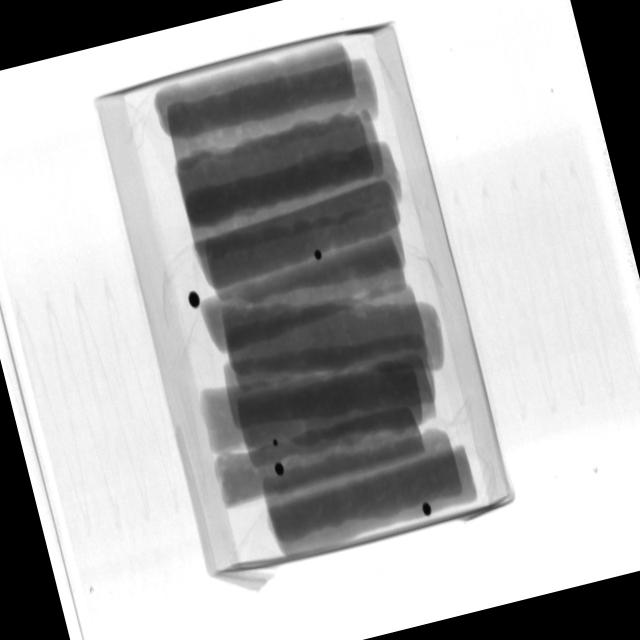ym: (187, 291, 202, 310), (420, 501, 433, 518), (274, 462, 286, 477), (314, 250, 324, 262), (273, 439, 281, 447)
